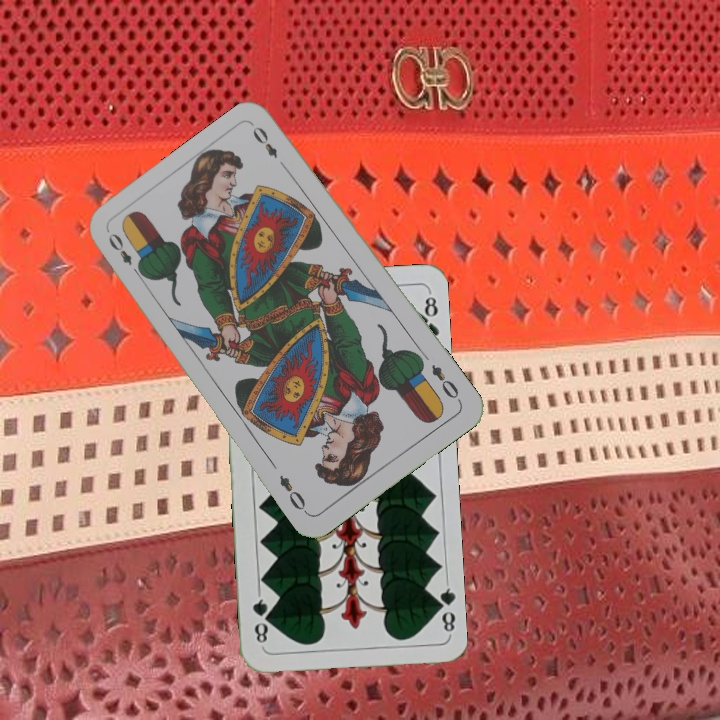EO: (104, 229, 145, 280), (427, 360, 464, 405)
G8: (430, 578, 458, 637)
